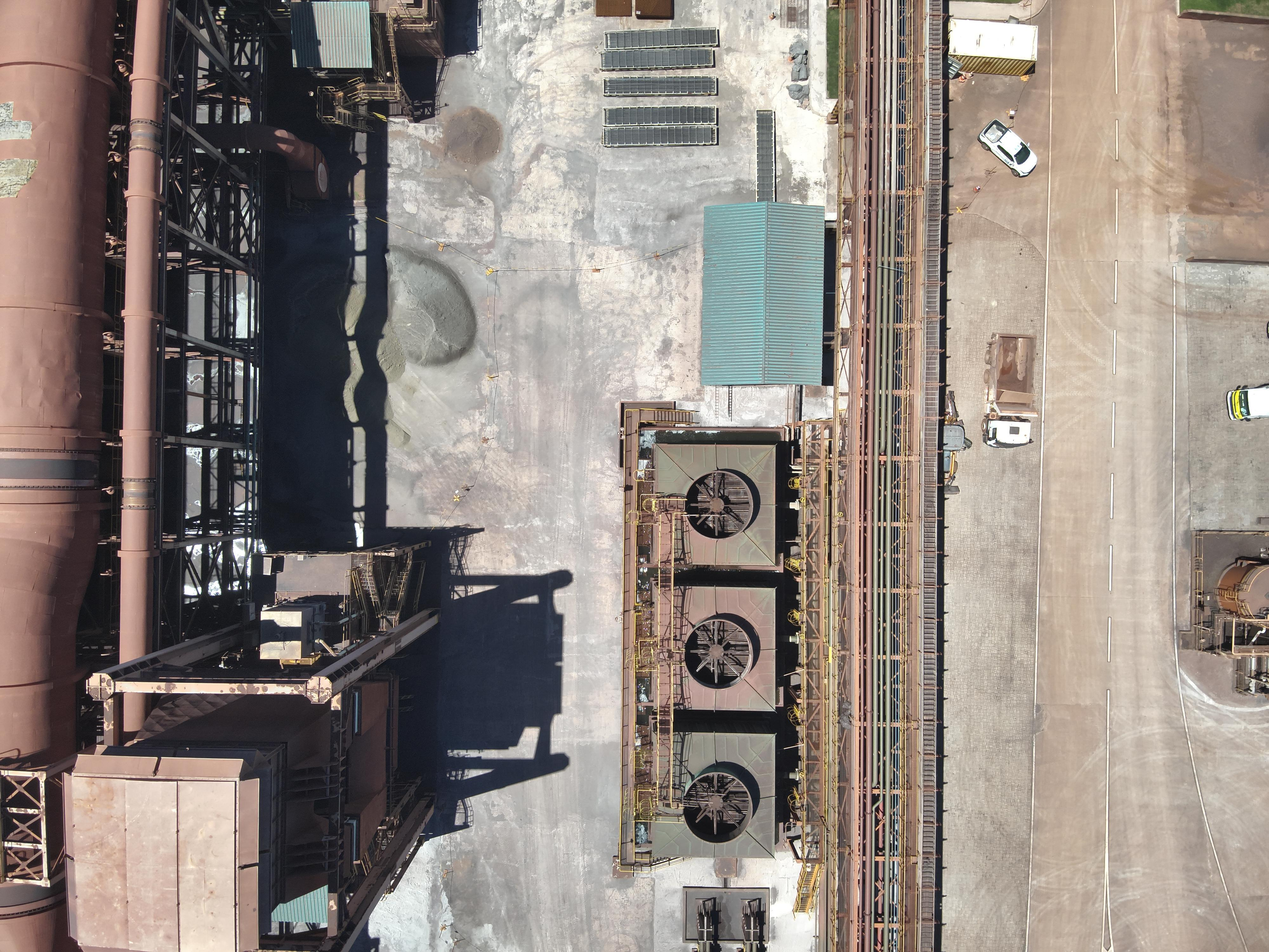Failures: (0, 157, 40, 199), (1, 102, 34, 140)
